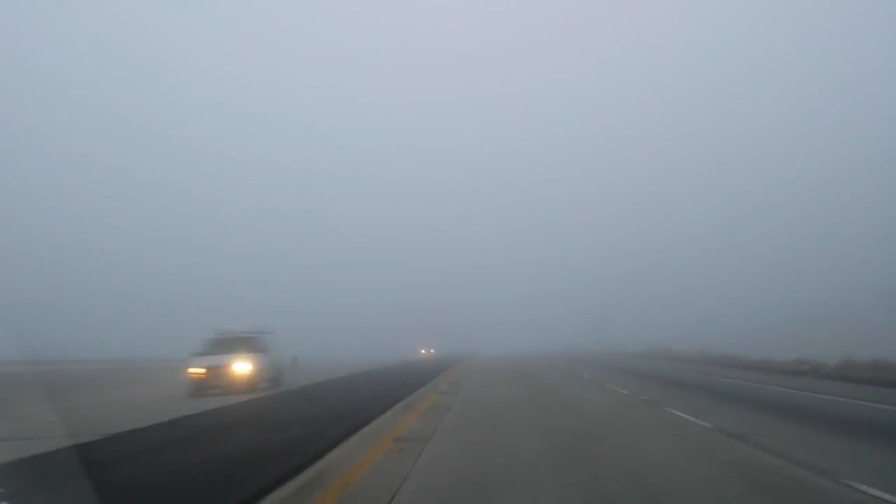car: (182, 332, 279, 399), (417, 344, 439, 360)
